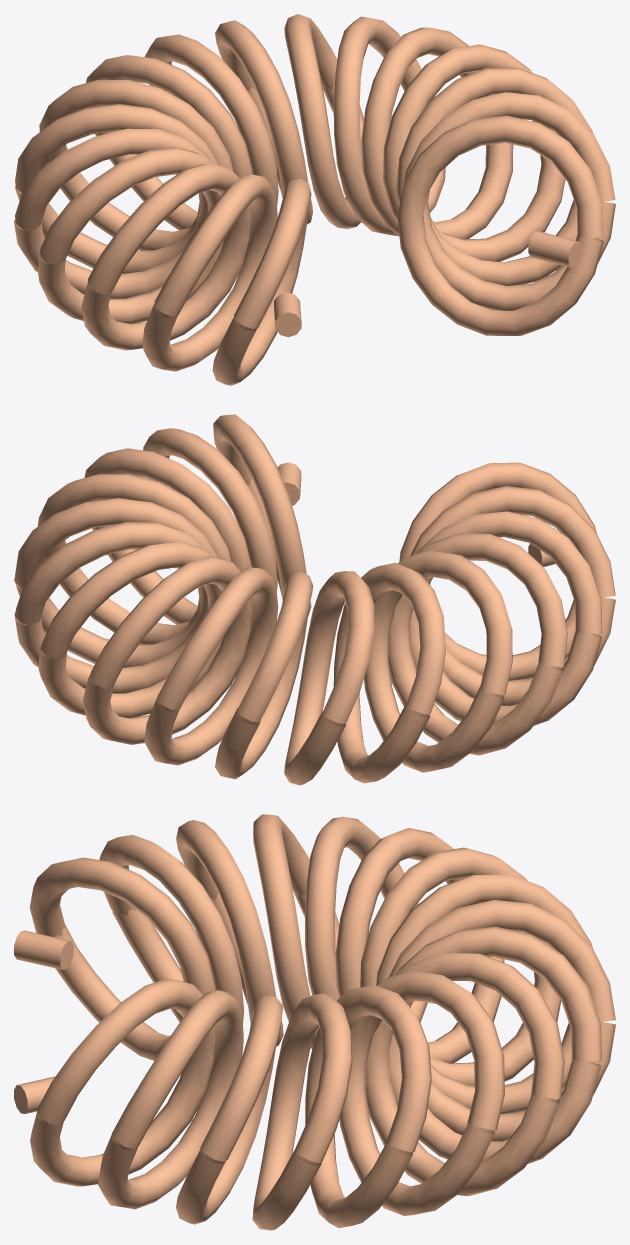
The model's file is winding.glb.
3 renders of one model, top to bottom at view 1: azimuth 30°, elevation 25°; view 2: azimuth 150°, elevation 25°; view 3: azimuth 270°, elevation 25°, orthographic. The views are drawn at different scales.
Visible parts, largest first — view 1: winding; view 2: winding; view 3: winding.
Boxes of the visible parts, bbox=[...] form: winding: bbox=[14, 14, 615, 385]; winding: bbox=[14, 414, 615, 785]; winding: bbox=[14, 814, 615, 1230].
Bounding box in the file's own units: 10.52 × 3.76 × 9.51.
